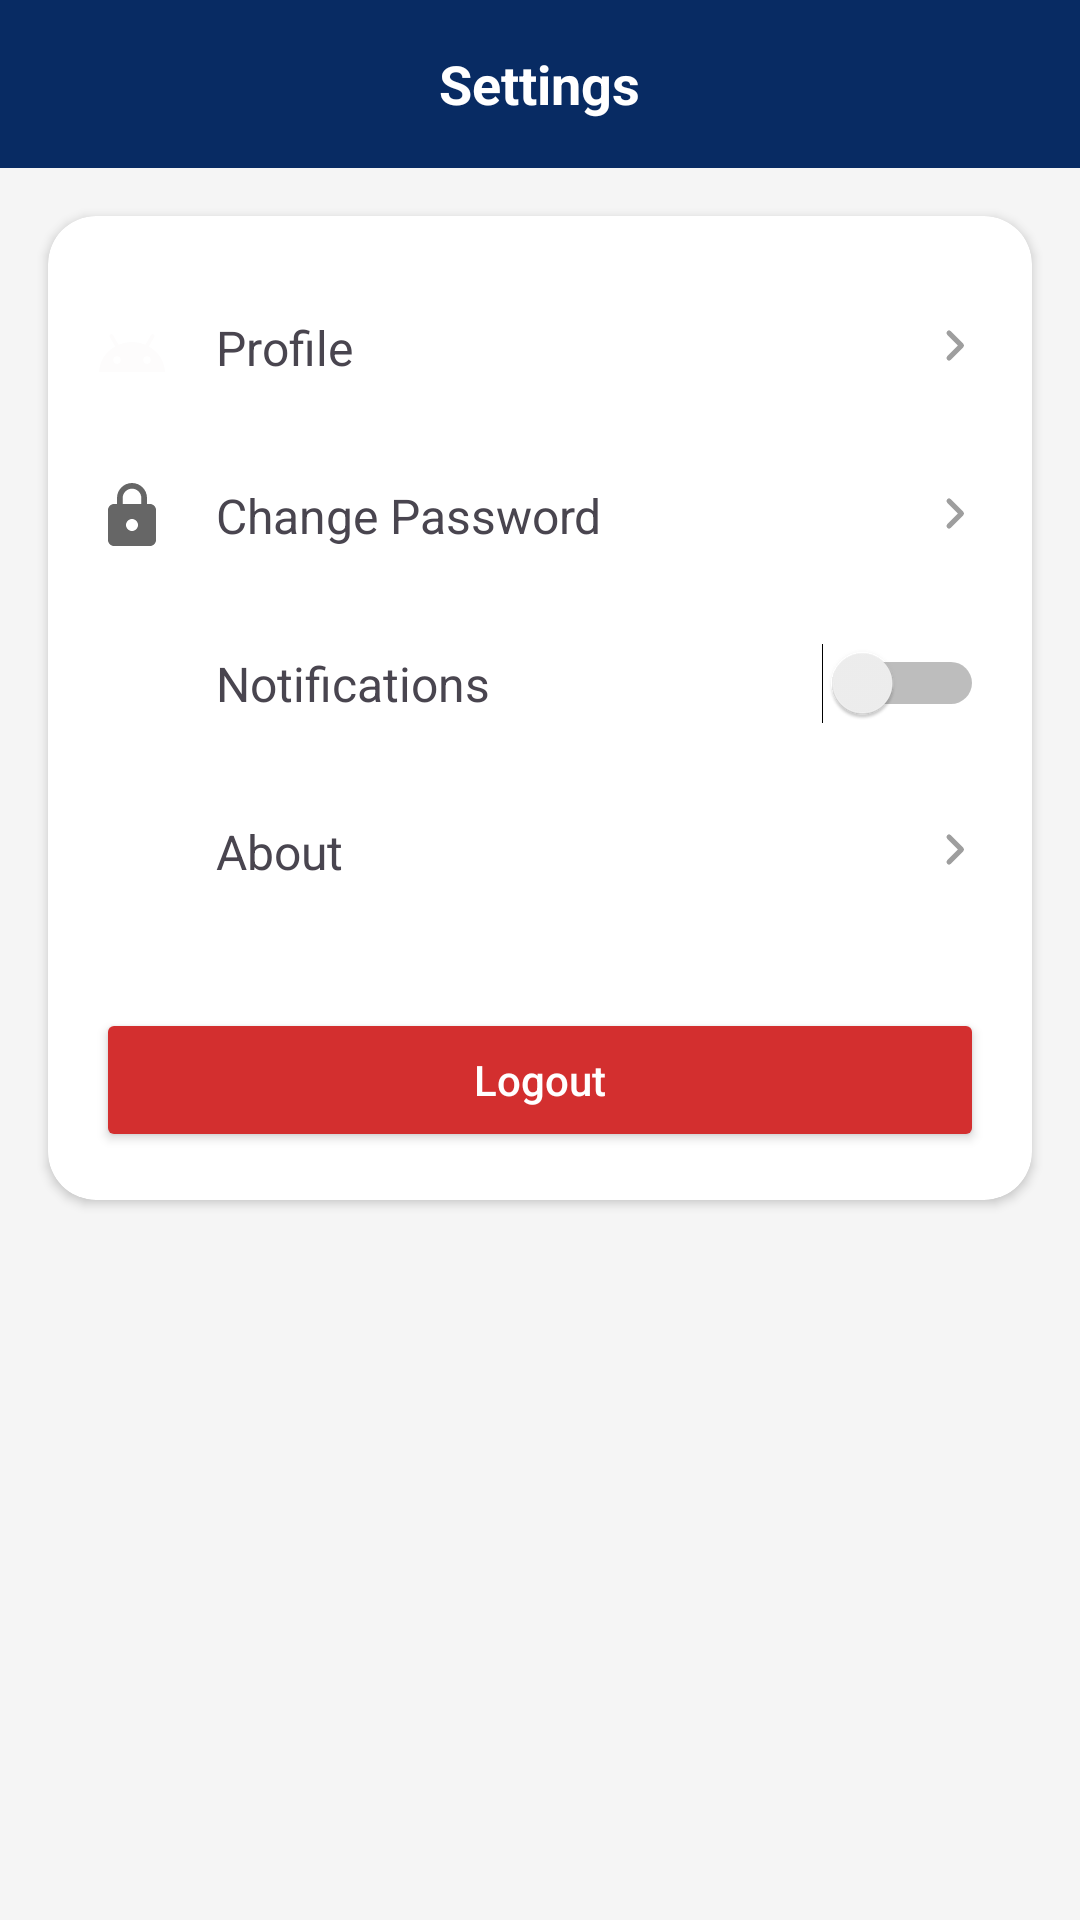

Icons on this 1080px×1920px Android screen, each with its box as (x1, y1, x2, y2):
chevron right: (946, 330, 964, 361), (946, 498, 964, 529), (946, 834, 964, 865)
lock: (108, 483, 156, 546)
